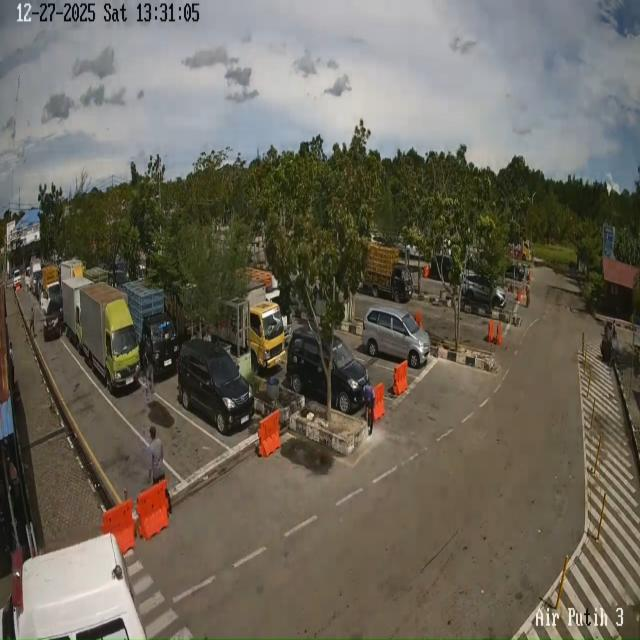Golongan IVA: (178, 339, 255, 434), (287, 328, 369, 413), (362, 306, 431, 368), (462, 272, 506, 308)
Golongan IVB: (363, 243, 413, 302), (40, 266, 61, 314)
Golongan VB: (80, 282, 140, 394), (215, 280, 286, 371), (62, 277, 92, 350)
